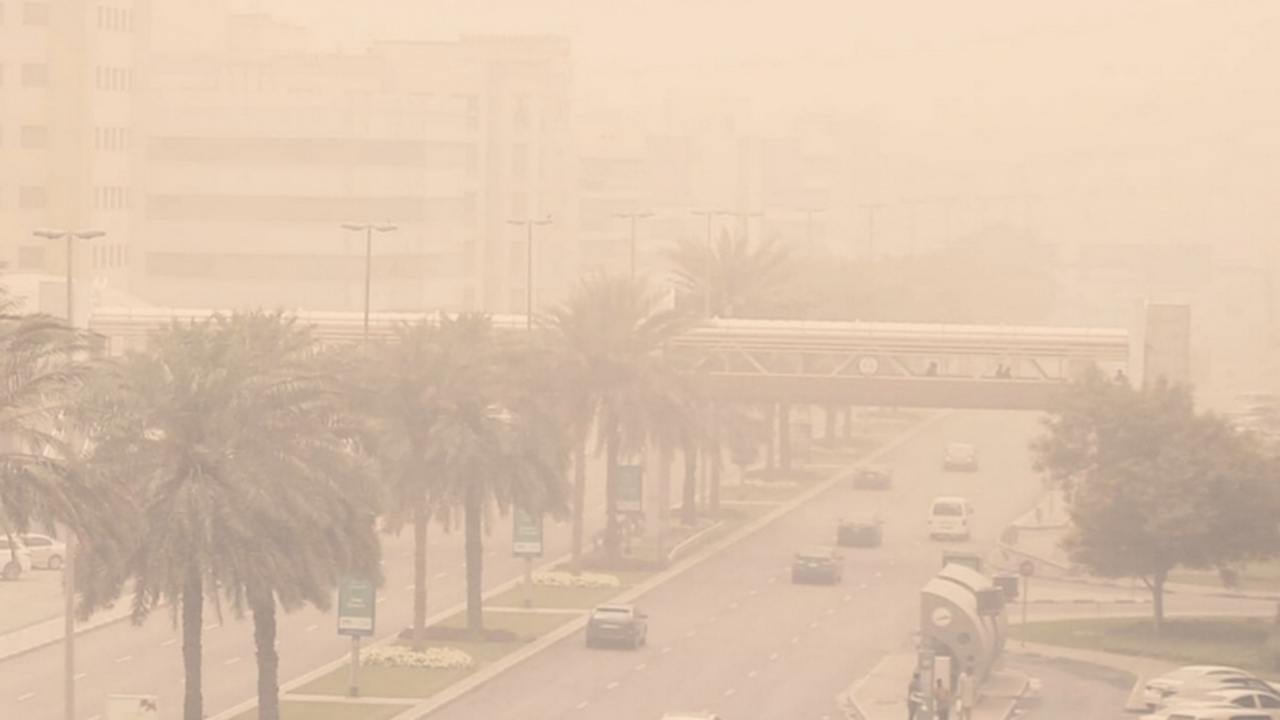car: (1160, 676, 1270, 710), (586, 603, 649, 649), (1144, 660, 1253, 683), (1160, 670, 1263, 694), (926, 496, 972, 542), (790, 549, 843, 585), (19, 529, 65, 570), (838, 509, 882, 545), (853, 462, 892, 489), (941, 442, 978, 470), (0, 528, 19, 578)
